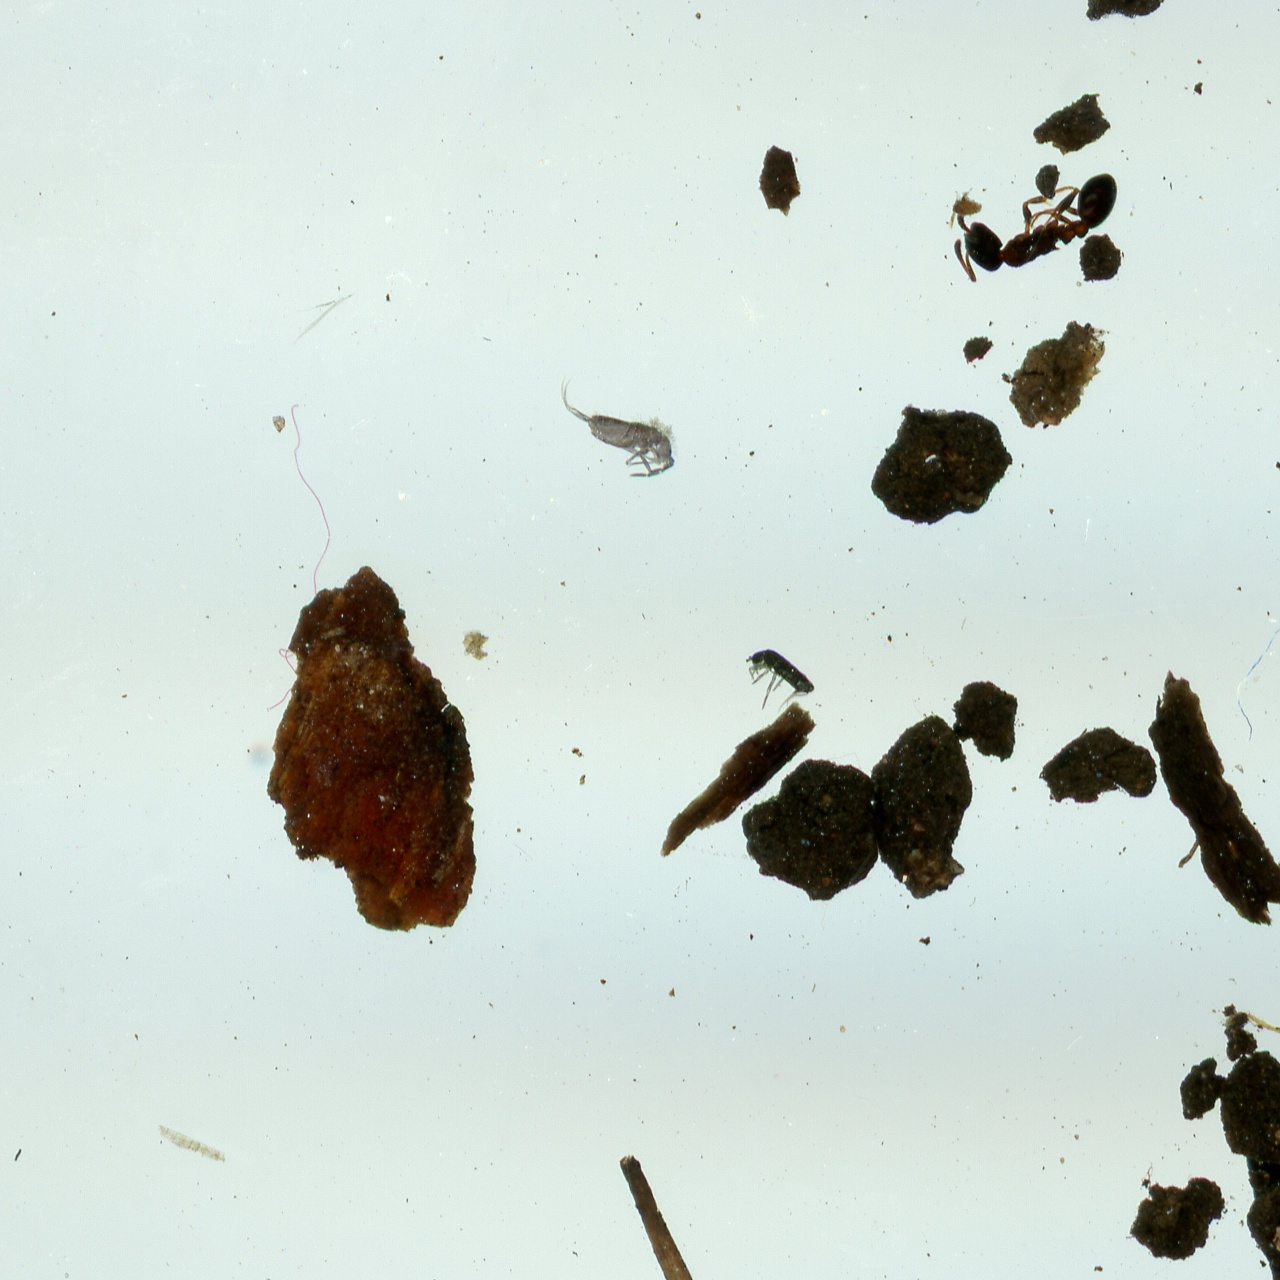arthropod: (935, 142, 1137, 290), (552, 374, 683, 483), (735, 643, 818, 718)
